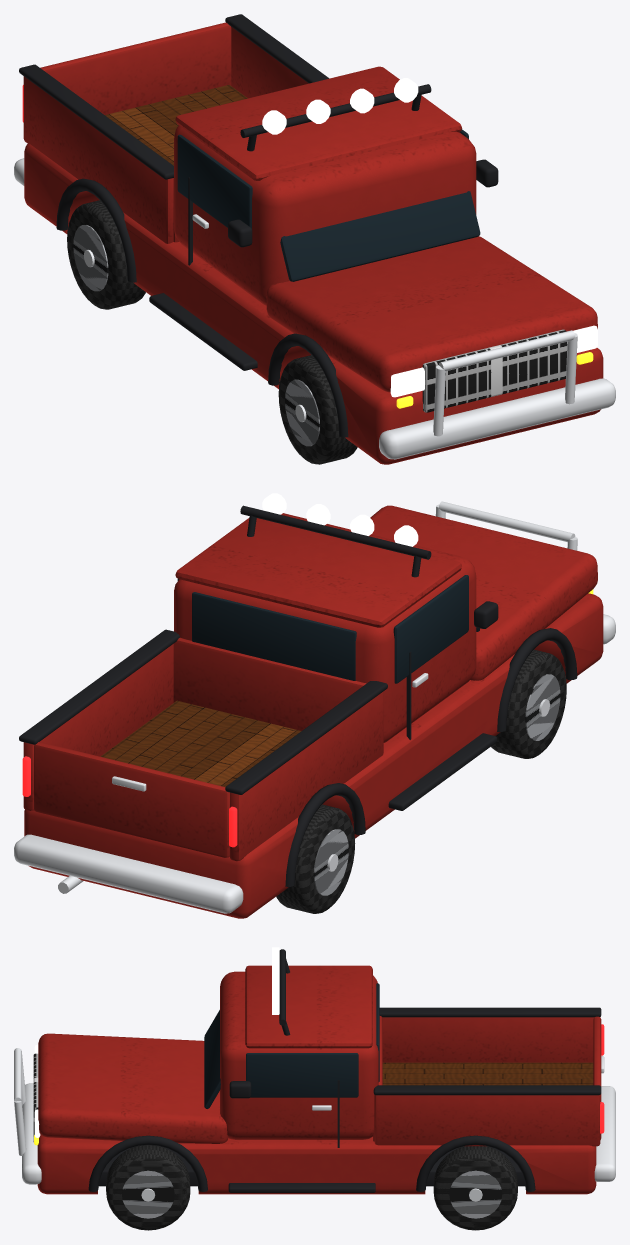
File: pickup-red.glb
The picture shows the model from 3 angles, top to bottom: view 1: azimuth 30°, elevation 25°; view 2: azimuth 150°, elevation 25°; view 3: azimuth 270°, elevation 25°; orthographic projection. The views are drawn at different scales.
Parts seen in each view (by area): view 1: pickup-red; view 2: pickup-red; view 3: pickup-red.
Part boxes in pixels (bbox=[...]): pickup-red: bbox=[14, 14, 615, 464]; pickup-red: bbox=[14, 493, 615, 918]; pickup-red: bbox=[14, 947, 615, 1230].
Bounding box in the file's own units: 2.36 × 2.41 × 6.14.
11 materials, 5 textured.
